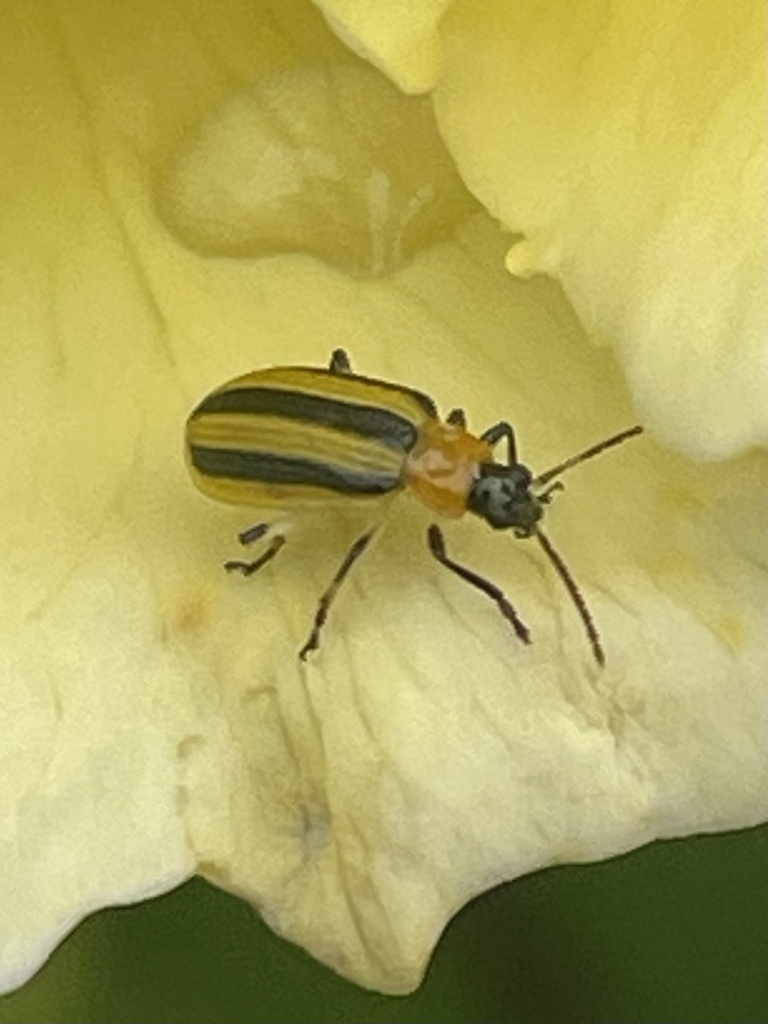potato_beetle: (49, 218, 766, 770)
